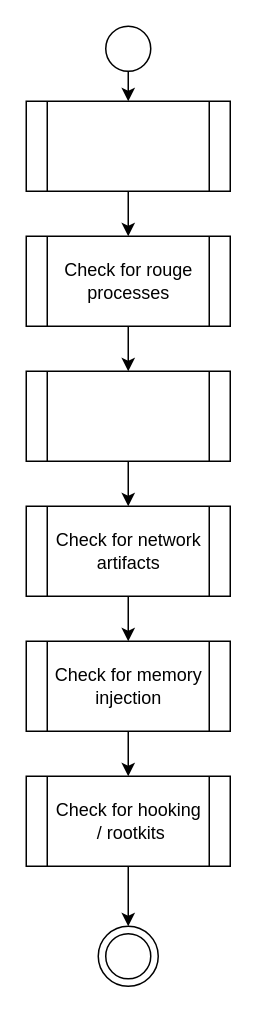
This 257x1013 diagram has some shape labels left out. Each missing label, with the box of its shape:
Akquire image and profile: (25, 100, 230, 191)
Check for rouge handles and dlls: (25, 370, 230, 461)
